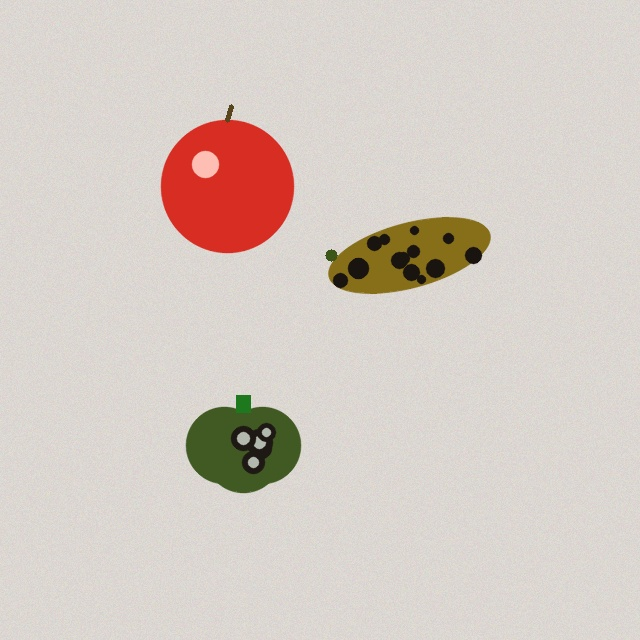Fresh apple: (161, 106, 293, 252)
Rotten banana: (322, 215, 496, 295)
Rotten bell pepper: (186, 395, 300, 492)
